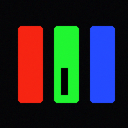4 line_v: (61, 68, 67, 94)
